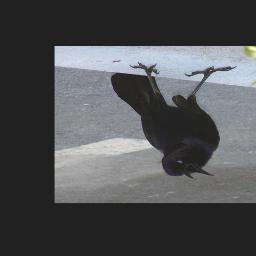Crow: (111, 63, 237, 181)
